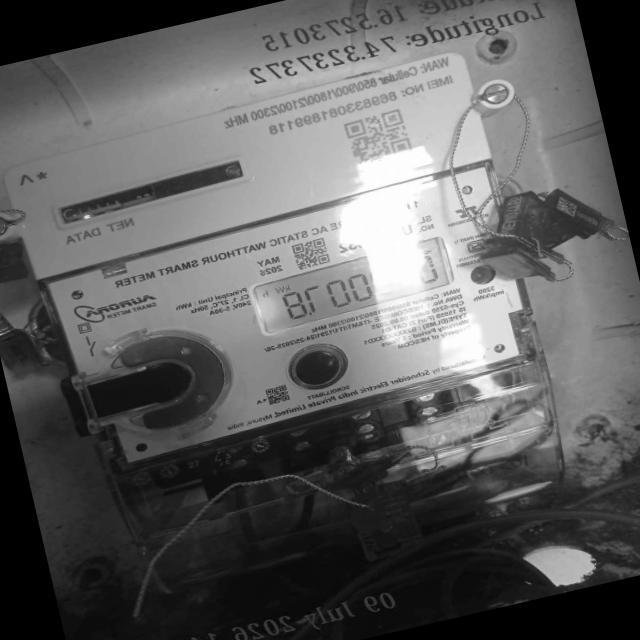meter: (22, 45, 540, 470)
